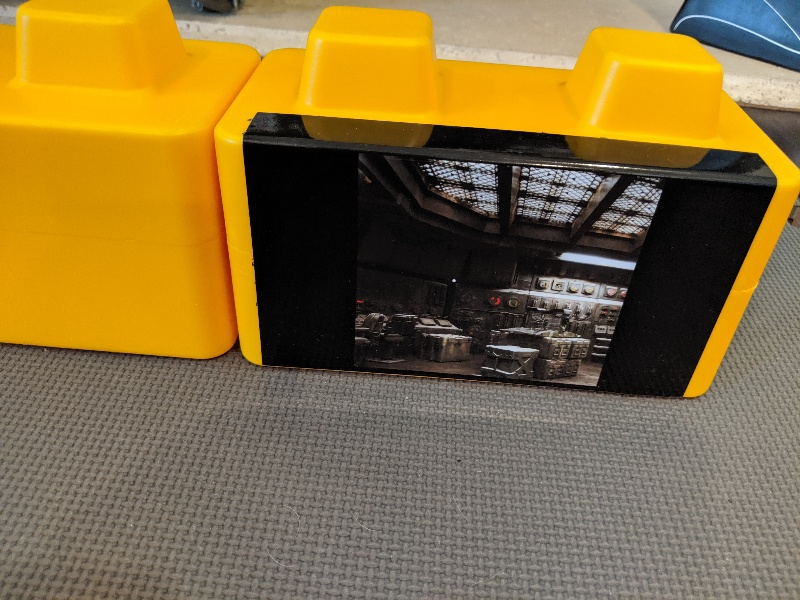Skystone: (229, 100, 783, 426)
